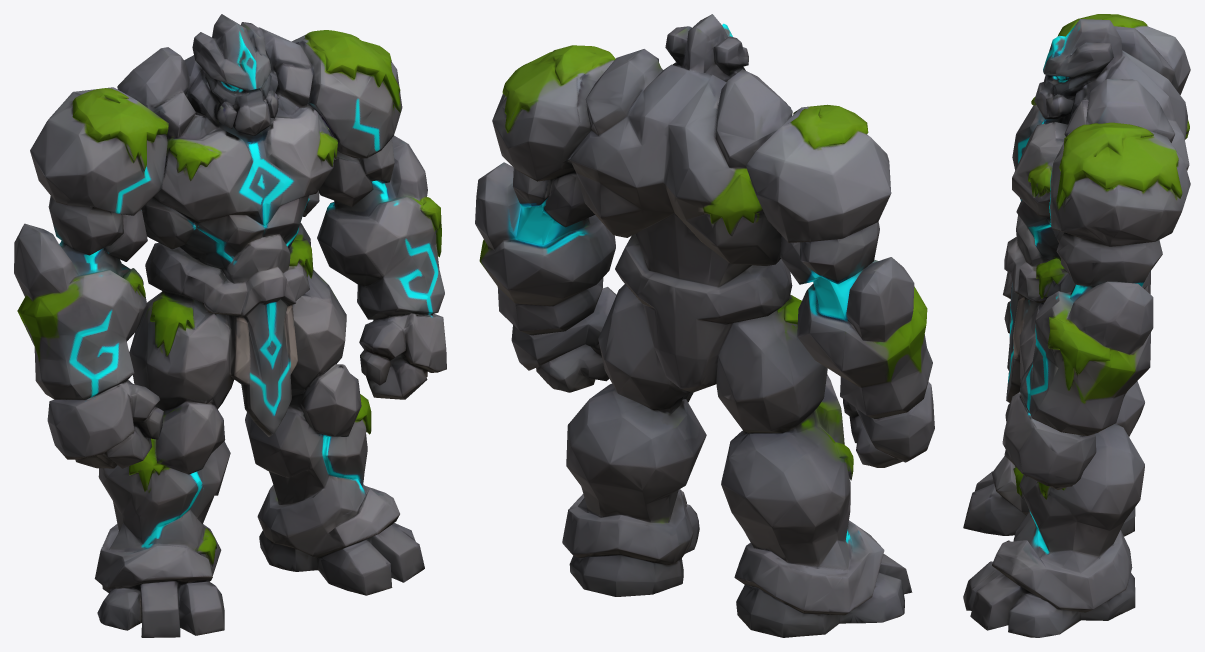
Rendered from boss2-original.glb.
3 views of the same model, side by side, from view 1: azimuth 30°, elevation 25°; view 2: azimuth 150°, elevation 25°; view 3: azimuth 270°, elevation 25° (orthographic). The views are drawn at different scales.
Parts seen in each view (by area): view 1: node_0; view 2: node_0; view 3: node_0.
Boxes of the visible parts, x1=… form: node_0: x1=14, y1=14, x2=446, y2=637; node_0: x1=475, y1=14, x2=934, y2=637; node_0: x1=963, y1=14, x2=1190, y2=637.
Size of the model in its own units: 0.7936 by 1.03 by 0.3879.
1 material, 1 textured.
